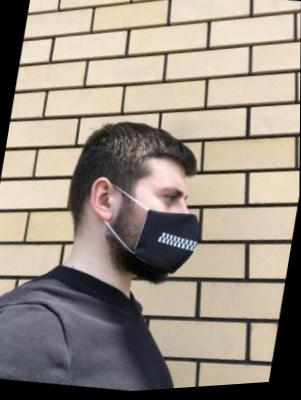WRONG: (128, 177, 206, 293)
